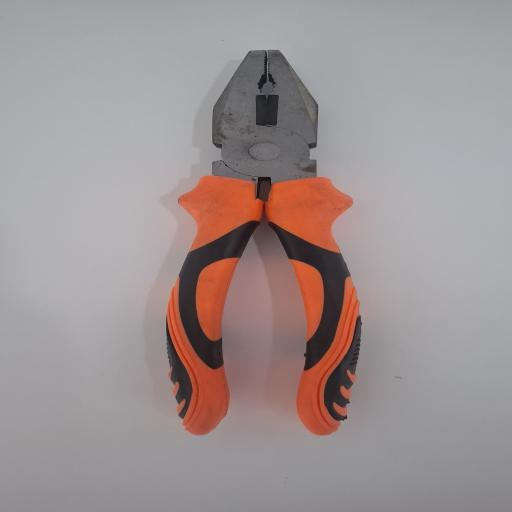alicate: (162, 49, 364, 436)
